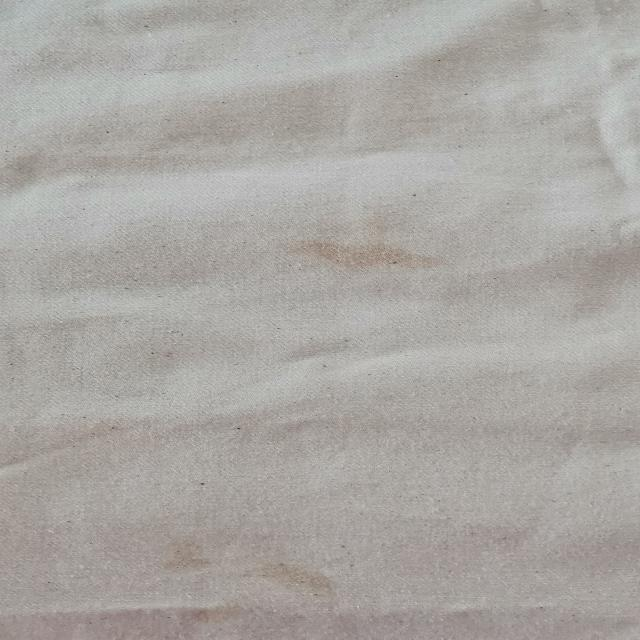taaaches: (287, 226, 434, 276), (137, 530, 226, 584), (263, 550, 352, 600)
